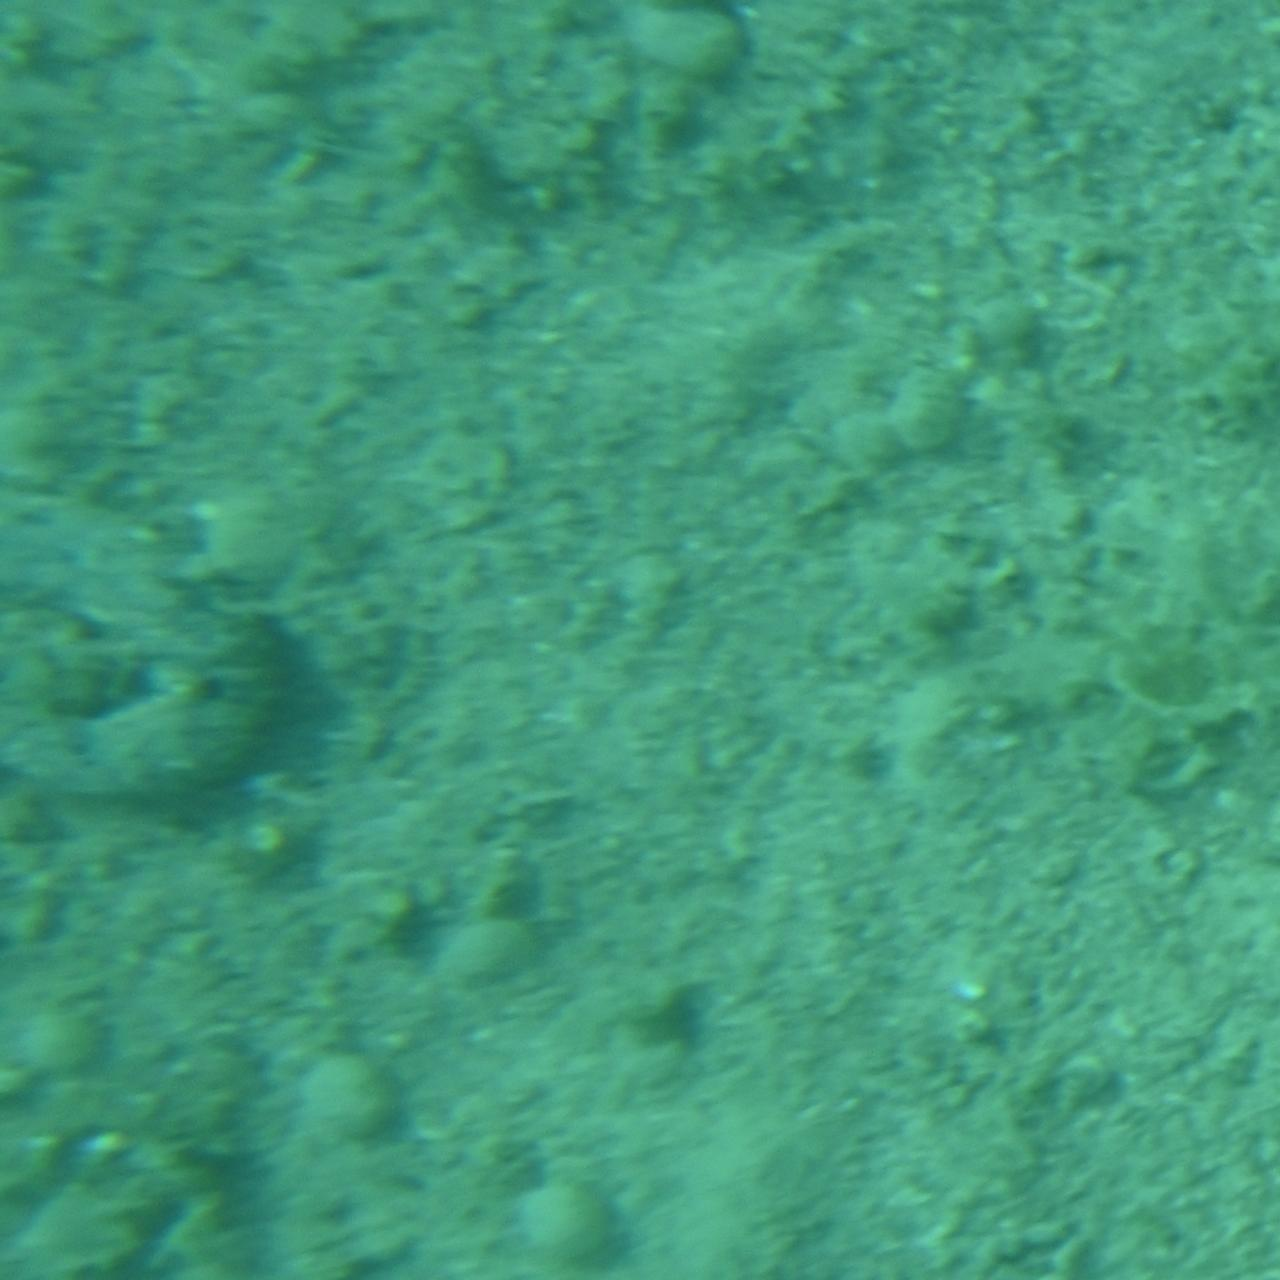Holothuria tubulosa: (0, 477, 302, 803)
